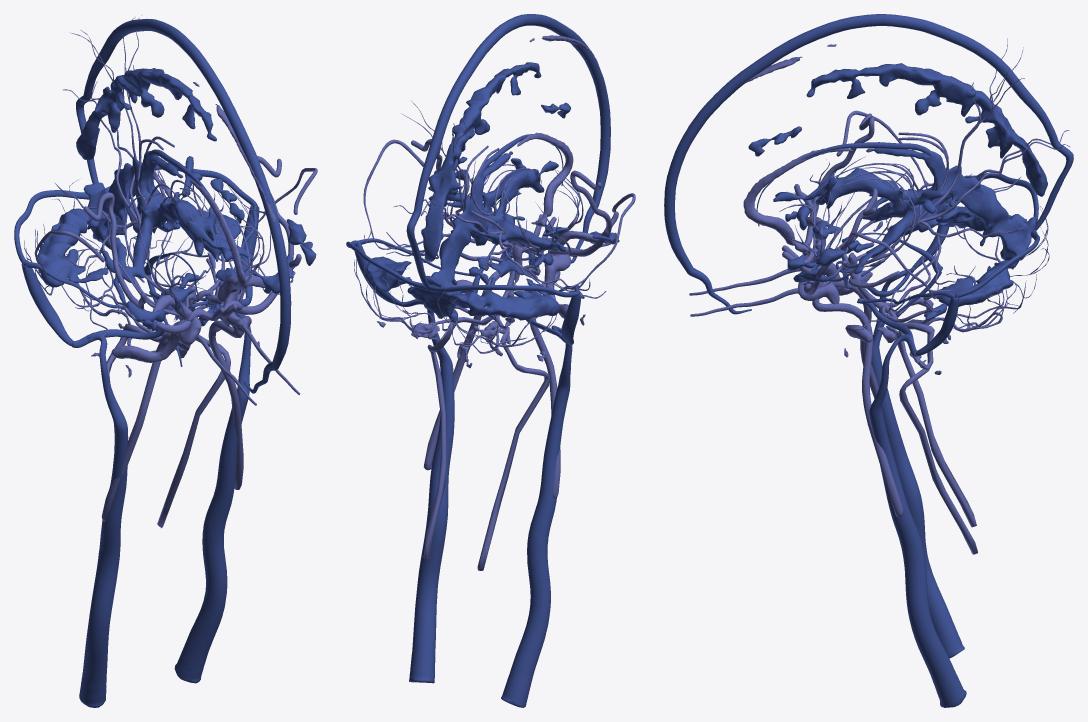
The model's file is atlas_nervous_mni152.cardiovascular.LOD1.glb.
3 renders of one model, left to right at view 1: azimuth 30°, elevation 25°; view 2: azimuth 150°, elevation 25°; view 3: azimuth 270°, elevation 25°, orthographic. The views are drawn at different scales.
Parts seen in each view (by area): view 1: ATLAS.NERVOUS.MNI152.CARDIOVASCULAR.CEREBRAL_VEINS_AND_SINUS, ATLAS.NERVOUS.MNI152.CARDIOVASCULAR.INTERNAL_JUGULAR_VEIN_LE, ATLAS.NERVOUS.MNI152.CARDIOVASCULAR.INTERNAL_JUGULAR_VEIN_RI, ATLAS.NERVOUS.MNI152.CARDIOVASCULAR.SUPERIOR_SAGITTAL_SINUS, ATLAS.NERVOUS.MNI152.CARDIOVASCULAR.INTERNAL_CAROTID_ARTERY. (×2), ATLAS.NERVOUS.MNI152.CARDIOVASCULAR.CEREBRAL_ARTERIES_MRA_AT, ATLAS.NERVOUS.MNI152.CARDIOVASCULAR.POSTERIOR_CEREBRAL_ARTER (×2), ATLAS.NERVOUS.MNI152.CARDIOVASCULAR.MIDDLE_CEREBRAL_ARTERY.R, ATLAS.NERVOUS.MNI152.CARDIOVASCULAR.MIDDLE_CEREBRAL_ARTERY.L, ATLAS.NERVOUS.MNI152.CARDIOVASCULAR.VERTEBRAL_ARTERY.L, ATLAS.NERVOUS.MNI152.CARDIOVASCULAR.POSTERIOR_INFERIOR_CEREB (×2), ATLAS.NERVOUS.MNI152.CARDIOVASCULAR.SIGMOID_SINUS_RIGHT.R (+7 smaller); view 2: ATLAS.NERVOUS.MNI152.CARDIOVASCULAR.CEREBRAL_VEINS_AND_SINUS, ATLAS.NERVOUS.MNI152.CARDIOVASCULAR.INTERNAL_JUGULAR_VEIN_RI, ATLAS.NERVOUS.MNI152.CARDIOVASCULAR.INTERNAL_JUGULAR_VEIN_LE, ATLAS.NERVOUS.MNI152.CARDIOVASCULAR.SUPERIOR_SAGITTAL_SINUS, ATLAS.NERVOUS.MNI152.CARDIOVASCULAR.CEREBRAL_ARTERIES_MRA_AT, ATLAS.NERVOUS.MNI152.CARDIOVASCULAR.INTERNAL_CAROTID_ARTERY. (×2), ATLAS.NERVOUS.MNI152.CARDIOVASCULAR.POSTERIOR_CEREBRAL_ARTER (×2), ATLAS.NERVOUS.MNI152.CARDIOVASCULAR.POSTERIOR_INFERIOR_CEREB (×2), ATLAS.NERVOUS.MNI152.CARDIOVASCULAR.VERTEBRAL_ARTERY.R, ATLAS.NERVOUS.MNI152.CARDIOVASCULAR.VERTEBRAL_ARTERY.L, ATLAS.NERVOUS.MNI152.CARDIOVASCULAR.MIDDLE_CEREBRAL_ARTERY.R, ATLAS.NERVOUS.MNI152.CARDIOVASCULAR.TRANSVERSE_SINUS_RIGHT.R (+7 smaller); view 3: ATLAS.NERVOUS.MNI152.CARDIOVASCULAR.CEREBRAL_VEINS_AND_SINUS, ATLAS.NERVOUS.MNI152.CARDIOVASCULAR.SUPERIOR_SAGITTAL_SINUS, ATLAS.NERVOUS.MNI152.CARDIOVASCULAR.INTERNAL_JUGULAR_VEIN_LE, ATLAS.NERVOUS.MNI152.CARDIOVASCULAR.CEREBRAL_ARTERIES_MRA_AT, ATLAS.NERVOUS.MNI152.CARDIOVASCULAR.INTERNAL_CAROTID_ARTERY. (×2), ATLAS.NERVOUS.MNI152.CARDIOVASCULAR.POSTERIOR_CEREBRAL_ARTER (×2), ATLAS.NERVOUS.MNI152.CARDIOVASCULAR.INTERNAL_JUGULAR_VEIN_RI, ATLAS.NERVOUS.MNI152.CARDIOVASCULAR.VERTEBRAL_ARTERY.L, ATLAS.NERVOUS.MNI152.CARDIOVASCULAR.VERTEBRAL_ARTERY.R, ATLAS.NERVOUS.MNI152.CARDIOVASCULAR.MIDDLE_CEREBRAL_ARTERY.R, ATLAS.NERVOUS.MNI152.CARDIOVASCULAR.MIDDLE_CEREBRAL_ARTERY.L, ATLAS.NERVOUS.MNI152.CARDIOVASCULAR.STRAIGHT_SINUS_VENAT_ATL (+4 smaller).
Part boxes in pixels (<box>): ATLAS.NERVOUS.MNI152.CARDIOVASCULAR.CEREBRAL_VEINS_AND_SINUS: <box>35,68,316,330</box>; ATLAS.NERVOUS.MNI152.CARDIOVASCULAR.INTERNAL_JUGULAR_VEIN_LE: <box>174,299,251,683</box>; ATLAS.NERVOUS.MNI152.CARDIOVASCULAR.INTERNAL_JUGULAR_VEIN_RI: <box>79,332,128,707</box>; ATLAS.NERVOUS.MNI152.CARDIOVASCULAR.SUPERIOR_SAGITTAL_SINUS: <box>76,19,291,393</box>; ATLAS.NERVOUS.MNI152.CARDIOVASCULAR.INTERNAL_CAROTID_ARTERY. (×2): <box>101,194,300,521</box>; ATLAS.NERVOUS.MNI152.CARDIOVASCULAR.CEREBRAL_ARTERIES_MRA_AT: <box>91,82,295,377</box>; ATLAS.NERVOUS.MNI152.CARDIOVASCULAR.POSTERIOR_CEREBRAL_ARTER (×2): <box>54,15,279,339</box>; ATLAS.NERVOUS.MNI152.CARDIOVASCULAR.MIDDLE_CEREBRAL_ARTERY.R: <box>34,192,190,333</box>; ATLAS.NERVOUS.MNI152.CARDIOVASCULAR.MIDDLE_CEREBRAL_ARTERY.L: <box>225,156,317,314</box>; ATLAS.NERVOUS.MNI152.CARDIOVASCULAR.VERTEBRAL_ARTERY.L: <box>157,317,230,528</box>; ATLAS.NERVOUS.MNI152.CARDIOVASCULAR.POSTERIOR_INFERIOR_CEREB (×2): <box>24,170,235,324</box>; ATLAS.NERVOUS.MNI152.CARDIOVASCULAR.SIGMOID_SINUS_RIGHT.R: <box>21,260,72,346</box>; ATLAS.NERVOUS.MNI152.CARDIOVASCULAR.CEREBRAL_VEINS_AND_SINUS: <box>366,62,618,322</box>; ATLAS.NERVOUS.MNI152.CARDIOVASCULAR.INTERNAL_JUGULAR_VEIN_RI: <box>501,325,572,707</box>; ATLAS.NERVOUS.MNI152.CARDIOVASCULAR.INTERNAL_JUGULAR_VEIN_LE: <box>409,299,454,683</box>; ATLAS.NERVOUS.MNI152.CARDIOVASCULAR.SUPERIOR_SAGITTAL_SINUS: <box>406,14,610,289</box>; ATLAS.NERVOUS.MNI152.CARDIOVASCULAR.CEREBRAL_ARTERIES_MRA_AT: <box>377,35,619,368</box>; ATLAS.NERVOUS.MNI152.CARDIOVASCULAR.INTERNAL_CAROTID_ARTERY. (×2): <box>423,170,610,498</box>; ATLAS.NERVOUS.MNI152.CARDIOVASCULAR.POSTERIOR_CEREBRAL_ARTER (×2): <box>383,101,606,298</box>; ATLAS.NERVOUS.MNI152.CARDIOVASCULAR.POSTERIOR_INFERIOR_CEREB (×2): <box>354,259,556,353</box>; ATLAS.NERVOUS.MNI152.CARDIOVASCULAR.VERTEBRAL_ARTERY.R: <box>477,315,550,570</box>; ATLAS.NERVOUS.MNI152.CARDIOVASCULAR.VERTEBRAL_ARTERY.L: <box>423,315,494,558</box>; ATLAS.NERVOUS.MNI152.CARDIOVASCULAR.MIDDLE_CEREBRAL_ARTERY.R: <box>547,170,635,291</box>; ATLAS.NERVOUS.MNI152.CARDIOVASCULAR.TRANSVERSE_SINUS_RIGHT.R: <box>427,285,579,297</box>; ATLAS.NERVOUS.MNI152.CARDIOVASCULAR.CEREBRAL_VEINS_AND_SINUS: <box>748,63,1047,319</box>; ATLAS.NERVOUS.MNI152.CARDIOVASCULAR.SUPERIOR_SAGITTAL_SINUS: <box>664,14,1073,314</box>; ATLAS.NERVOUS.MNI152.CARDIOVASCULAR.INTERNAL_JUGULAR_VEIN_LE: <box>869,334,966,707</box>; ATLAS.NERVOUS.MNI152.CARDIOVASCULAR.CEREBRAL_ARTERIES_MRA_AT: <box>688,44,970,374</box>; ATLAS.NERVOUS.MNI152.CARDIOVASCULAR.INTERNAL_CAROTID_ARTERY. (×2): <box>690,156,911,517</box>; ATLAS.NERVOUS.MNI152.CARDIOVASCULAR.POSTERIOR_CEREBRAL_ARTER (×2): <box>814,38,1069,330</box>; ATLAS.NERVOUS.MNI152.CARDIOVASCULAR.INTERNAL_JUGULAR_VEIN_RI: <box>871,269,964,658</box>; ATLAS.NERVOUS.MNI152.CARDIOVASCULAR.VERTEBRAL_ARTERY.L: <box>889,309,977,554</box>; ATLAS.NERVOUS.MNI152.CARDIOVASCULAR.VERTEBRAL_ARTERY.R: <box>893,298,976,527</box>; ATLAS.NERVOUS.MNI152.CARDIOVASCULAR.MIDDLE_CEREBRAL_ARTERY.R: <box>794,110,971,255</box>; ATLAS.NERVOUS.MNI152.CARDIOVASCULAR.MIDDLE_CEREBRAL_ARTERY.L: <box>799,188,975,299</box>; ATLAS.NERVOUS.MNI152.CARDIOVASCULAR.STRAIGHT_SINUS_VENAT_ATL: <box>941,181,1023,246</box>.
Size of the model in its own units: 0.1326 by 0.3289 by 0.1832.
